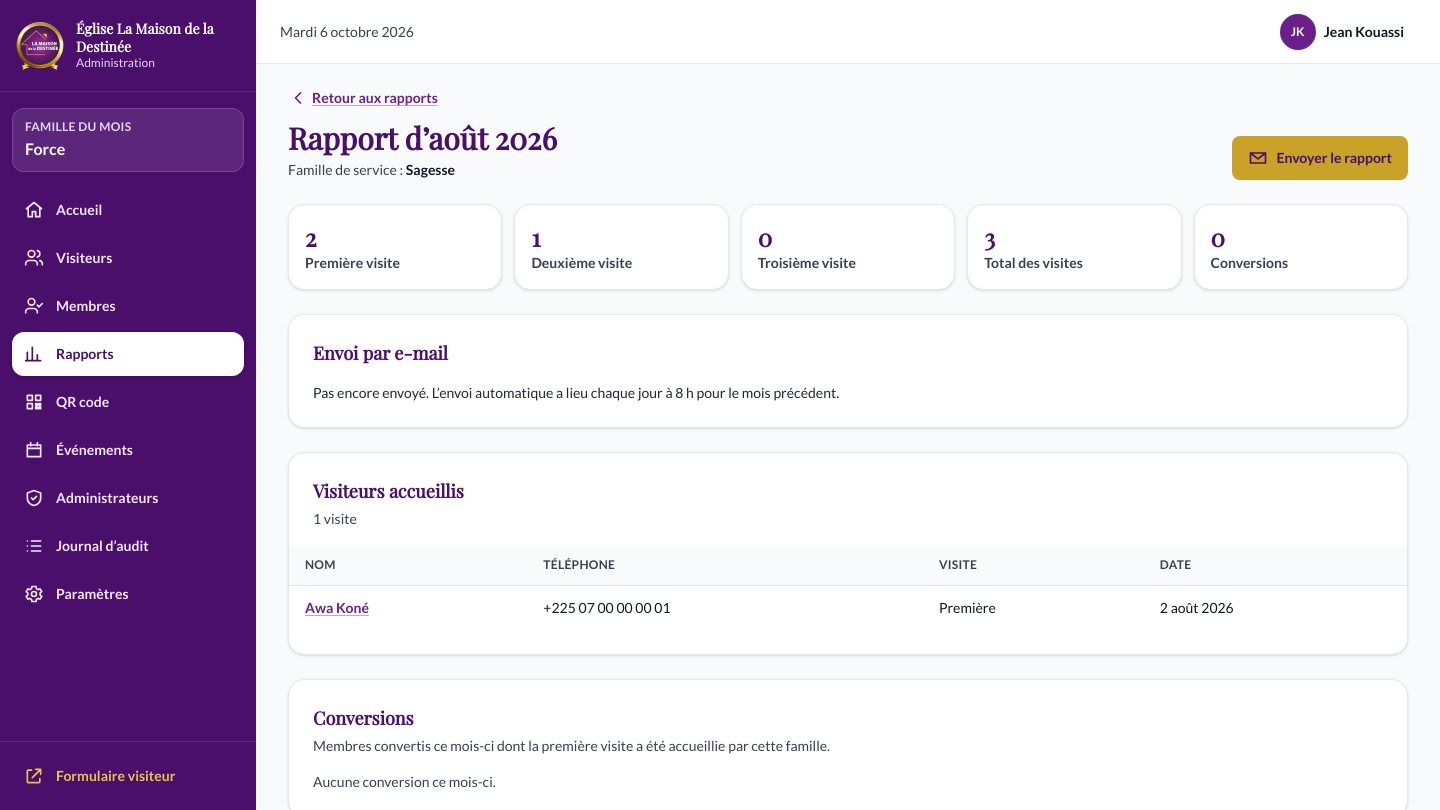
rapports › affiche un message clair si l’envoi échoue (0)
The image size is (1440, 810).
Click the button "Envoyer le rapport" at [1320, 158], box [1232,136,1408,180]
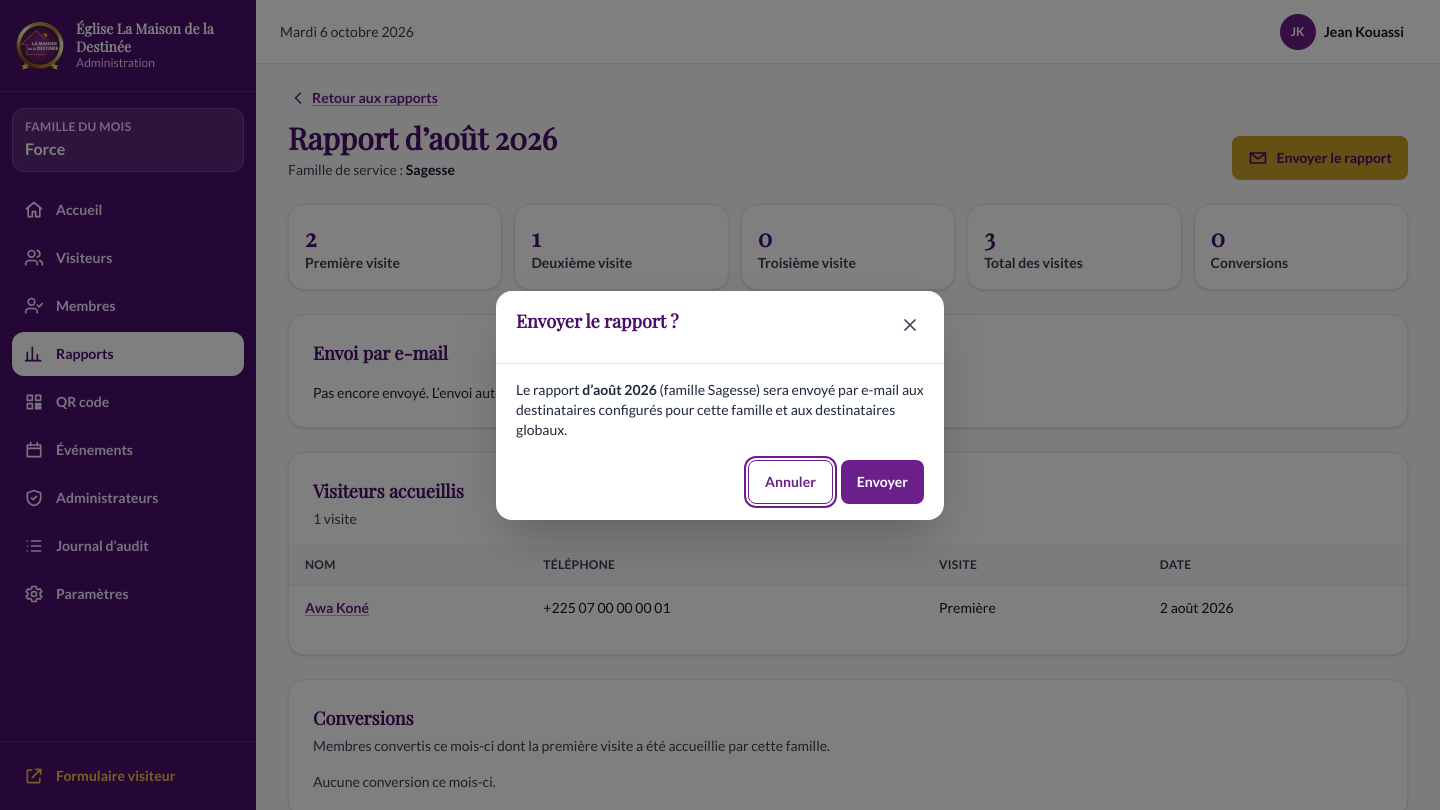
Click the button "Envoyer" at [882, 482], box [841,460,924,504]
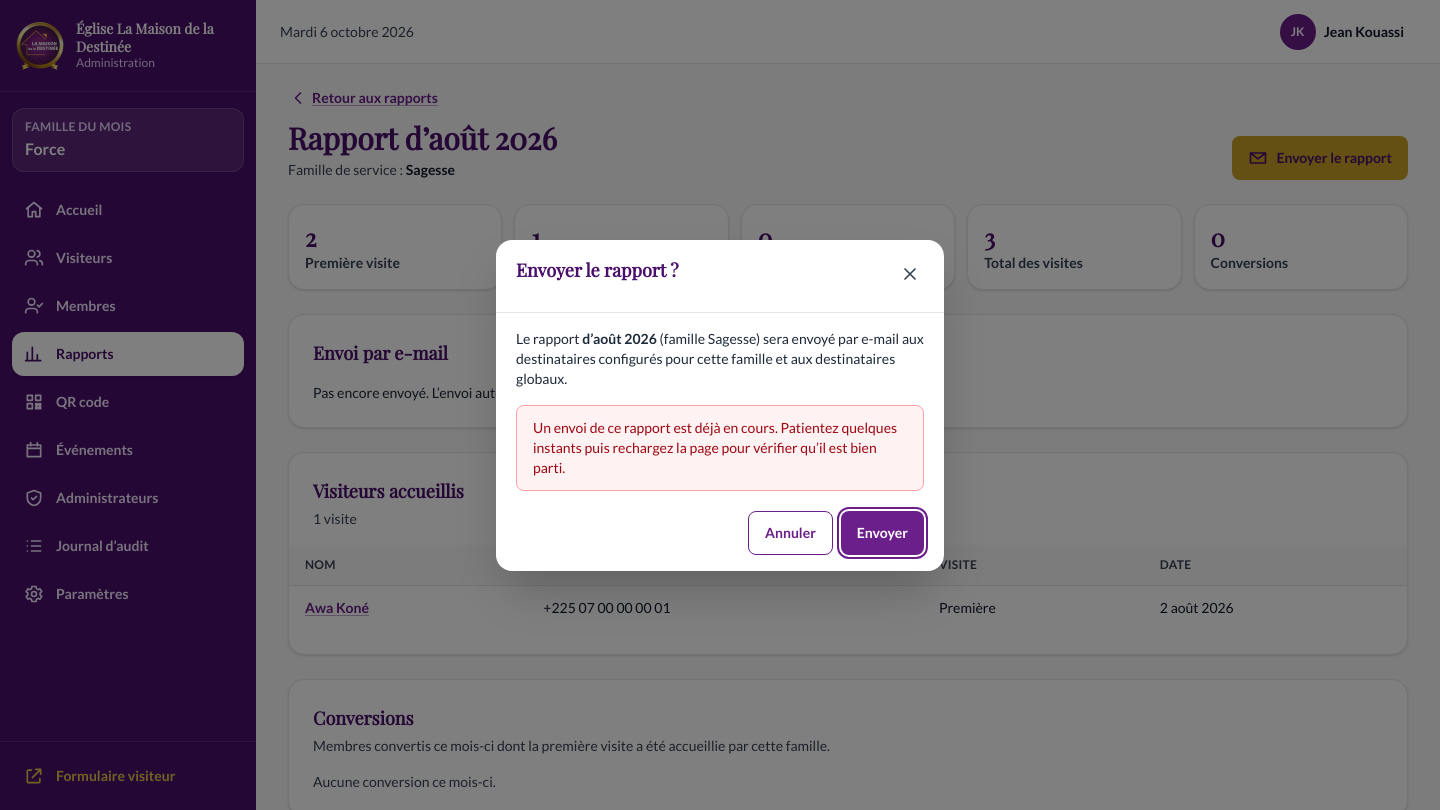
Expected: the message shows "Un envoi de ce rapport est déjà en cours", [533,418,897,476]
